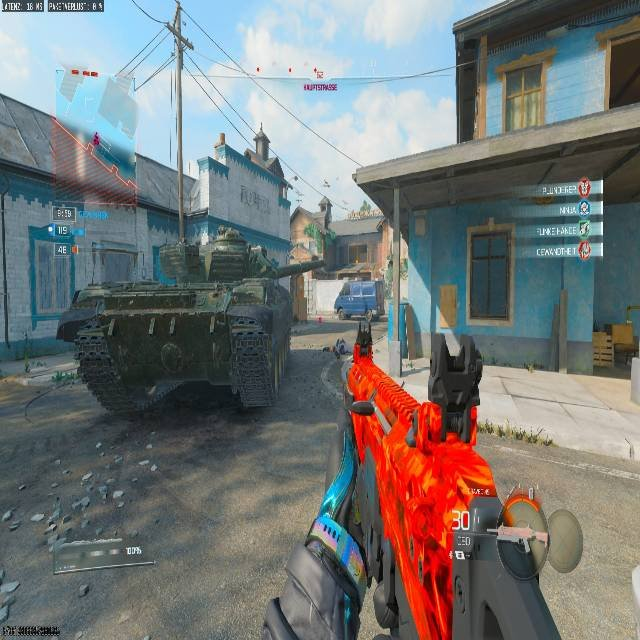player: (334, 338, 346, 357)
